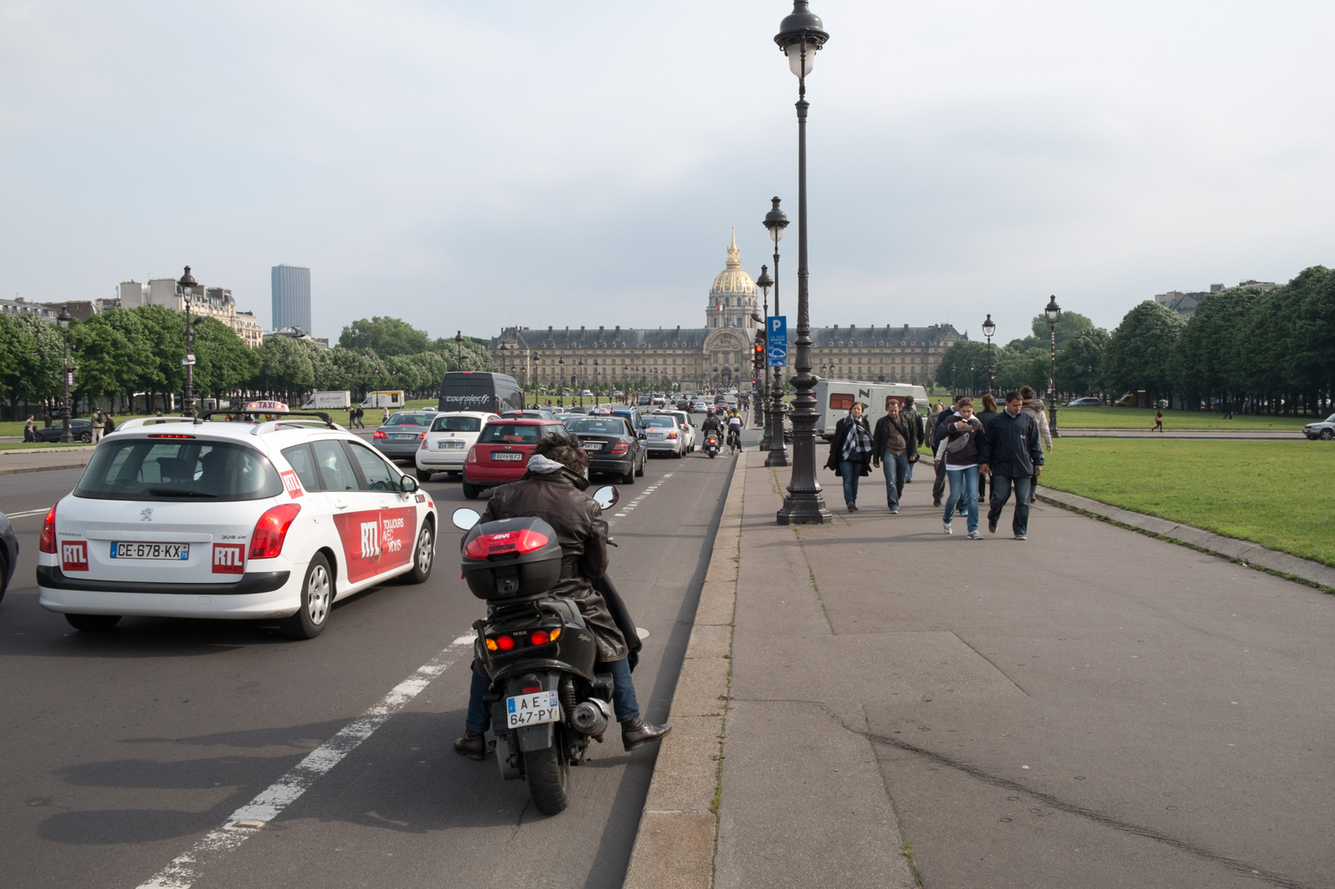fachada: (455, 250, 974, 400), (123, 267, 269, 344), (267, 256, 323, 340)
poste: (755, 2, 845, 525), (757, 183, 788, 465), (171, 267, 215, 411), (747, 267, 776, 434), (52, 346, 90, 438)
